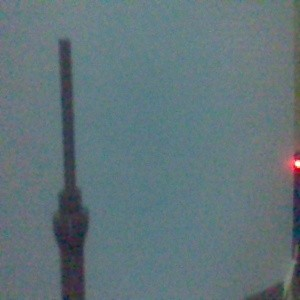obeng: (50, 36, 91, 300)
